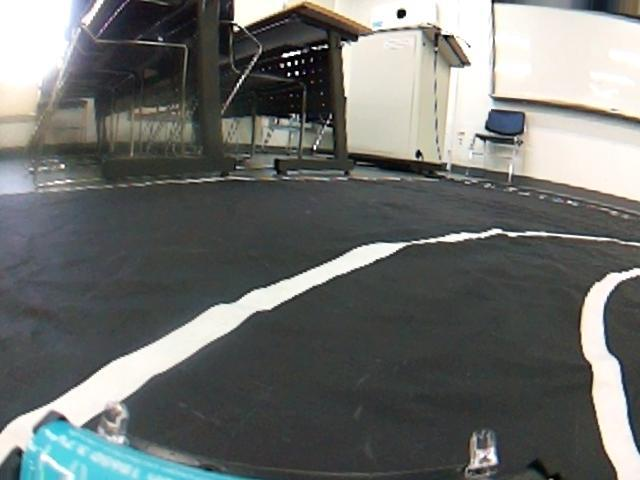right: (3, 225, 640, 480)
